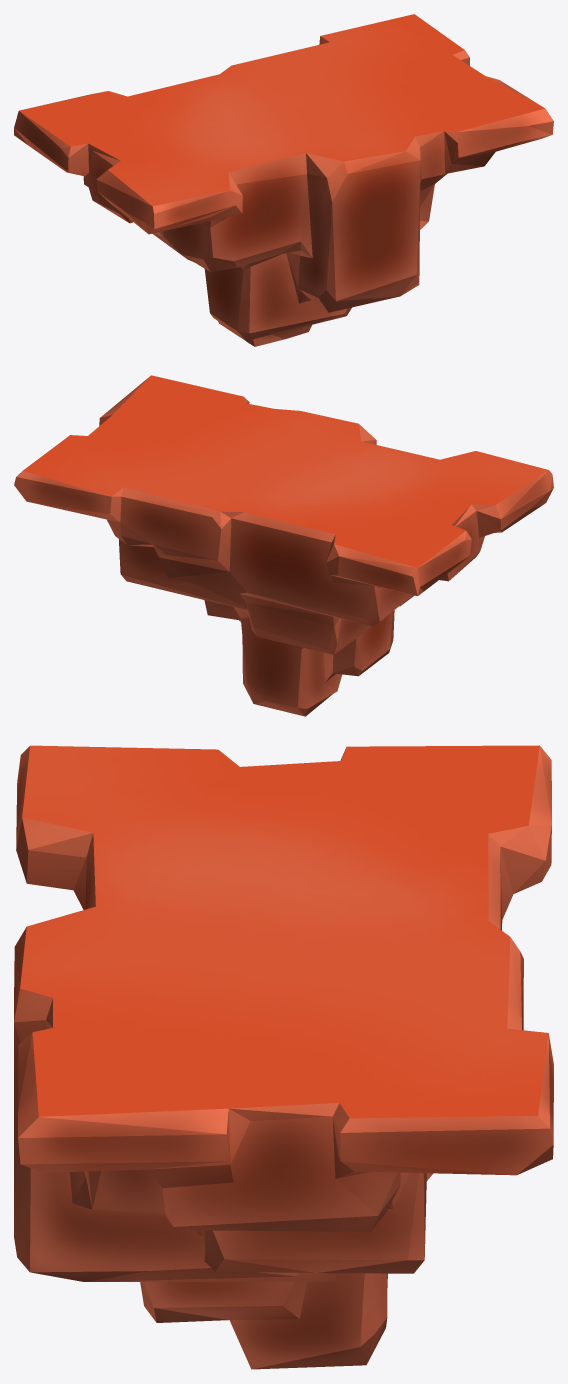
The model's file is Platform_3_5.fbx.
3 renders of one model, top to bottom at view 1: azimuth 30°, elevation 25°; view 2: azimuth 150°, elevation 25°; view 3: azimuth 270°, elevation 25°, orthographic. The views are drawn at different scales.
Parts seen in each view (by area): view 1: Cube.051; view 2: Cube.051; view 3: Cube.051.
Boxes of the visible parts, bbox=[...] form: Cube.051: bbox=[14, 14, 553, 346]; Cube.051: bbox=[14, 375, 553, 716]; Cube.051: bbox=[14, 745, 553, 1369].
Size of the model in its own units: 500 by 261 by 301.
